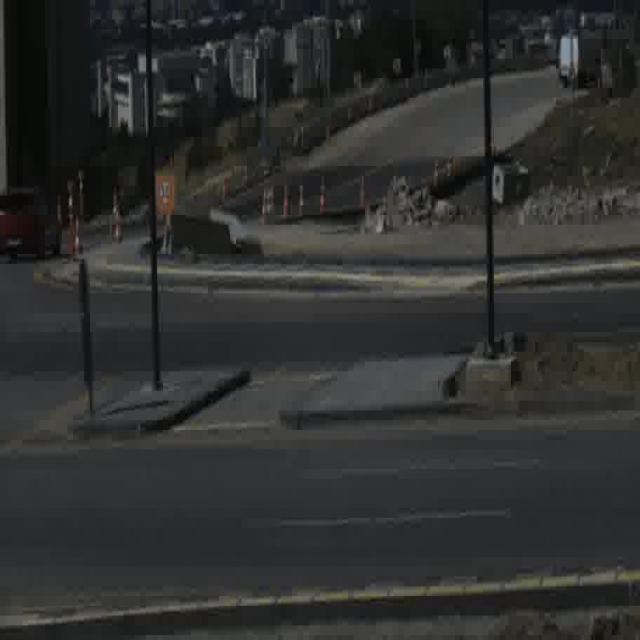Car: (1, 182, 60, 260), (557, 32, 597, 88)
